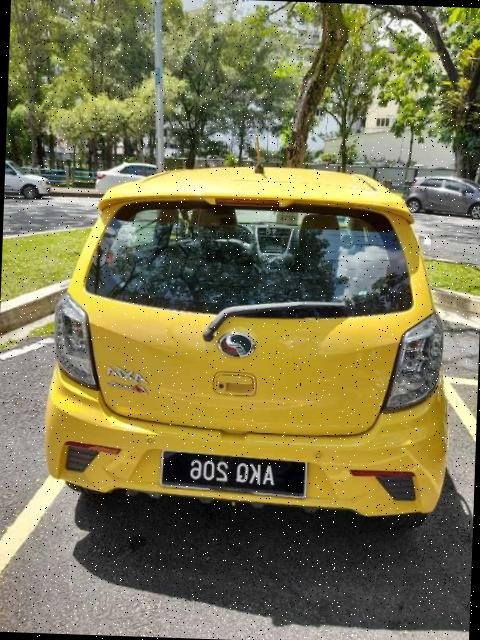License_Plate: (160, 451, 309, 500)
car: (42, 158, 458, 532)
